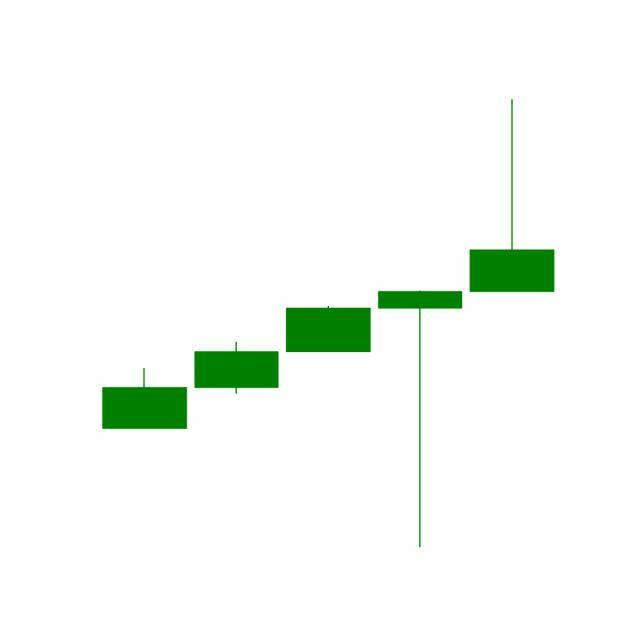Hammer: (374, 288, 468, 551)
